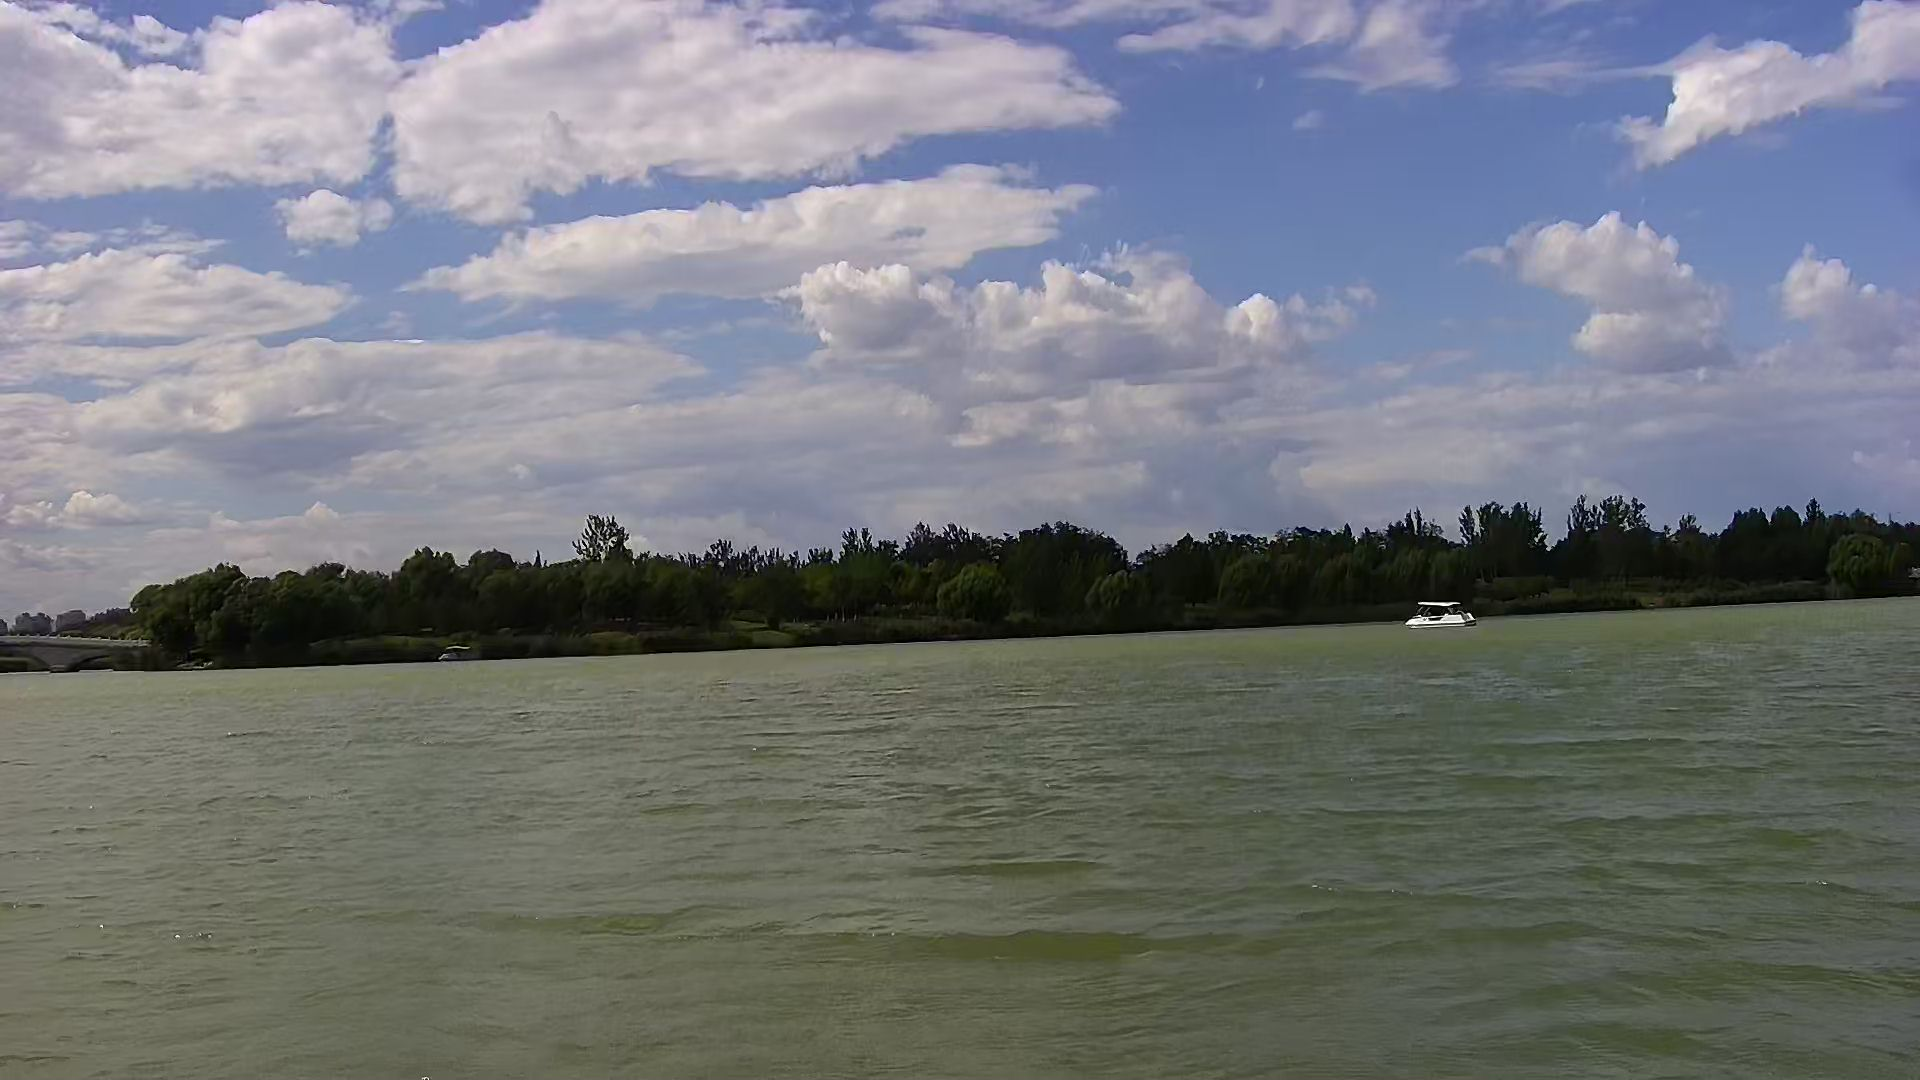boat: (1408, 597, 1474, 633), (436, 642, 483, 665)
bridge: (1, 630, 146, 678)
